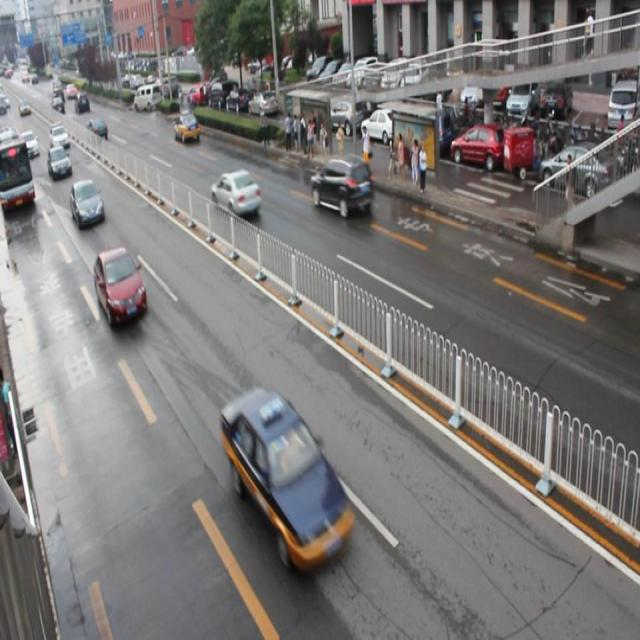car: (220, 384, 354, 572), (94, 246, 148, 328), (308, 158, 372, 219), (210, 167, 262, 217), (70, 177, 105, 228), (47, 146, 72, 180), (174, 108, 199, 140)
van: (1, 126, 36, 210)
